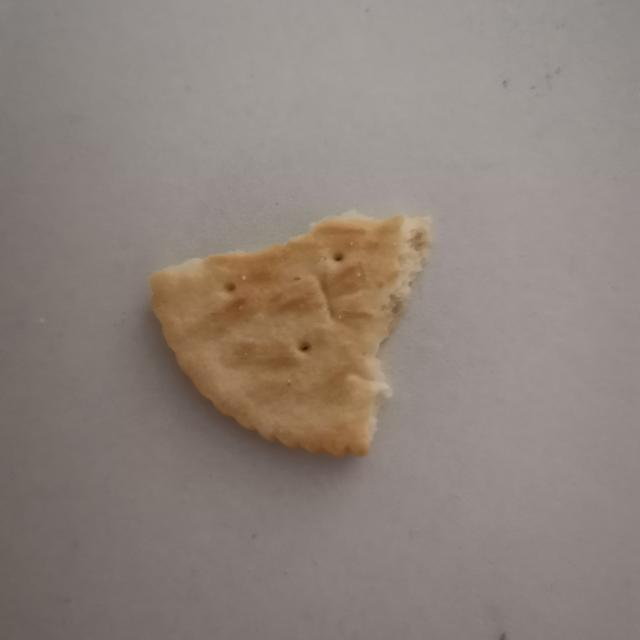Broken: (148, 209, 433, 459)
